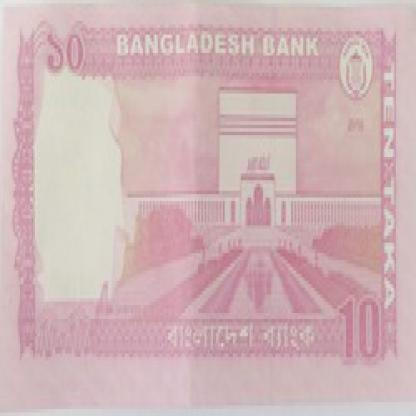Ten Taka: (328, 270, 383, 378), (379, 59, 400, 308), (33, 24, 105, 83)
